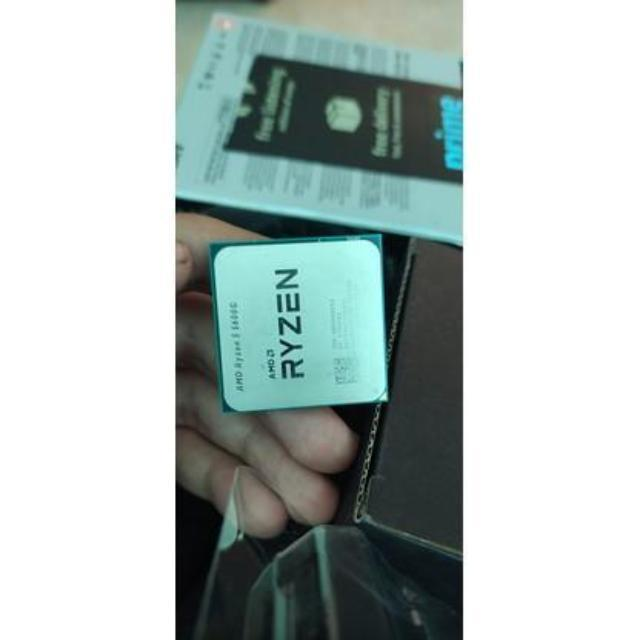CPU: (209, 238, 389, 410)
